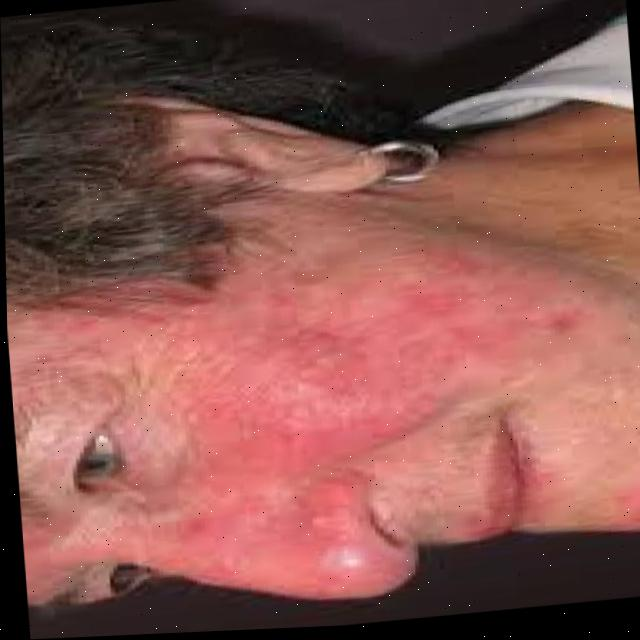Rosacea: (127, 277, 492, 459), (174, 488, 383, 606)
